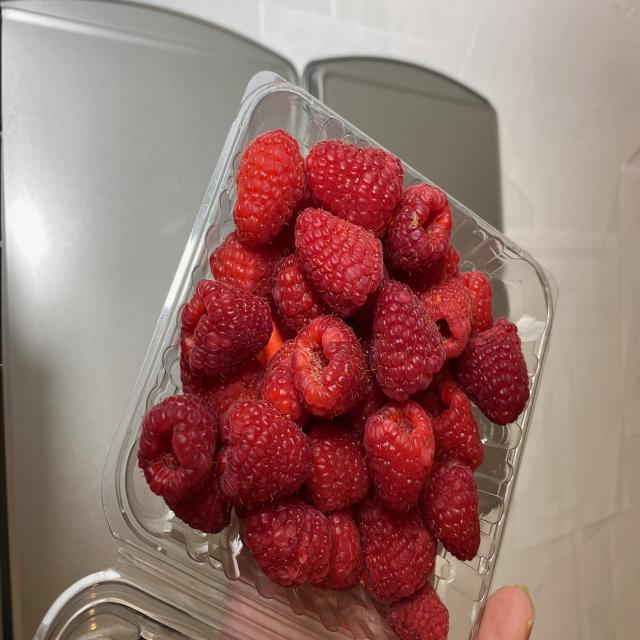raspberries: (198, 147, 477, 618)
